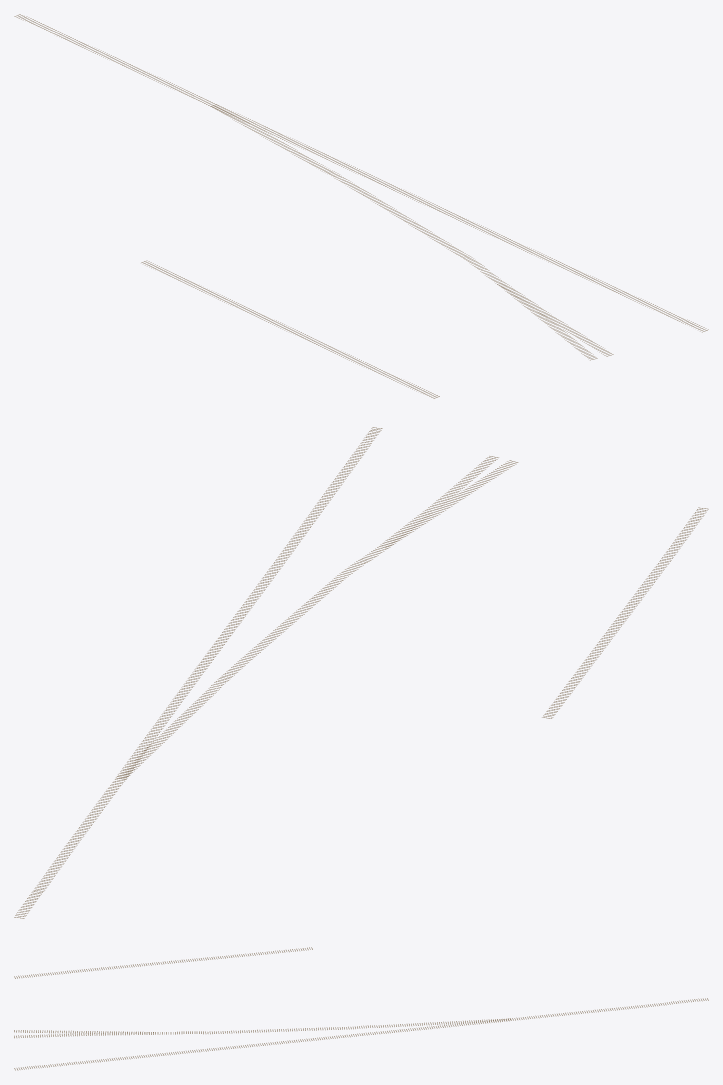
The model's file is c_1630_17818_rail_sleeper.glb.
3 renders of one model, top to bottom at view 1: azimuth 30°, elevation 25°; view 2: azimuth 150°, elevation 25°; view 3: azimuth 270°, elevation 25°, orthographic. The views are drawn at different scales.
Visible parts, largest first — view 1: geometry_0; view 2: geometry_0; view 3: geometry_0.
Part boxes in pixels (x1=…): geometry_0: x1=14, y1=14, x2=708, y2=398; geometry_0: x1=14, y1=427, x2=708, y2=918; geometry_0: x1=14, y1=947, x2=708, y2=1070.
Bounding box in the file's own units: 107 × 1.37 × 256.
